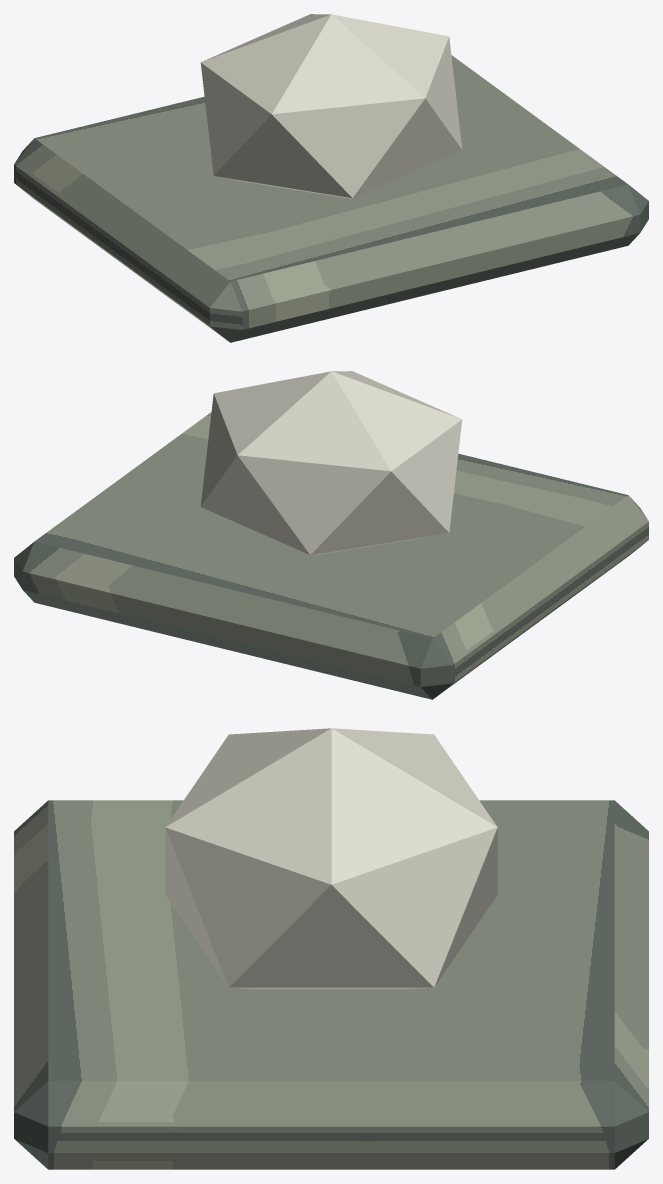
Rendered from stone_rose_resting.glb.
3 renders of one model, top to bottom at view 1: azimuth 30°, elevation 25°; view 2: azimuth 150°, elevation 25°; view 3: azimuth 270°, elevation 25°, orthographic. The views are drawn at different scales.
Parts seen in each view (by area): view 1: Rose_plinth, Stone_rose; view 2: Rose_plinth, Stone_rose; view 3: Rose_plinth, Stone_rose.
Boxes of the visible parts, left/top/right/bottom form: Rose_plinth: left=14, top=55, right=648, bottom=342; Stone_rose: left=200, top=14, right=462, bottom=198; Rose_plinth: left=14, top=412, right=648, bottom=699; Stone_rose: left=200, top=371, right=462, bottom=555; Rose_plinth: left=14, top=800, right=648, bottom=1169; Stone_rose: left=165, top=728, right=497, bottom=989.
Size of the model in its own units: 1.5 by 0.68 by 1.3.
Materials: 2 (1 with a texture image).
